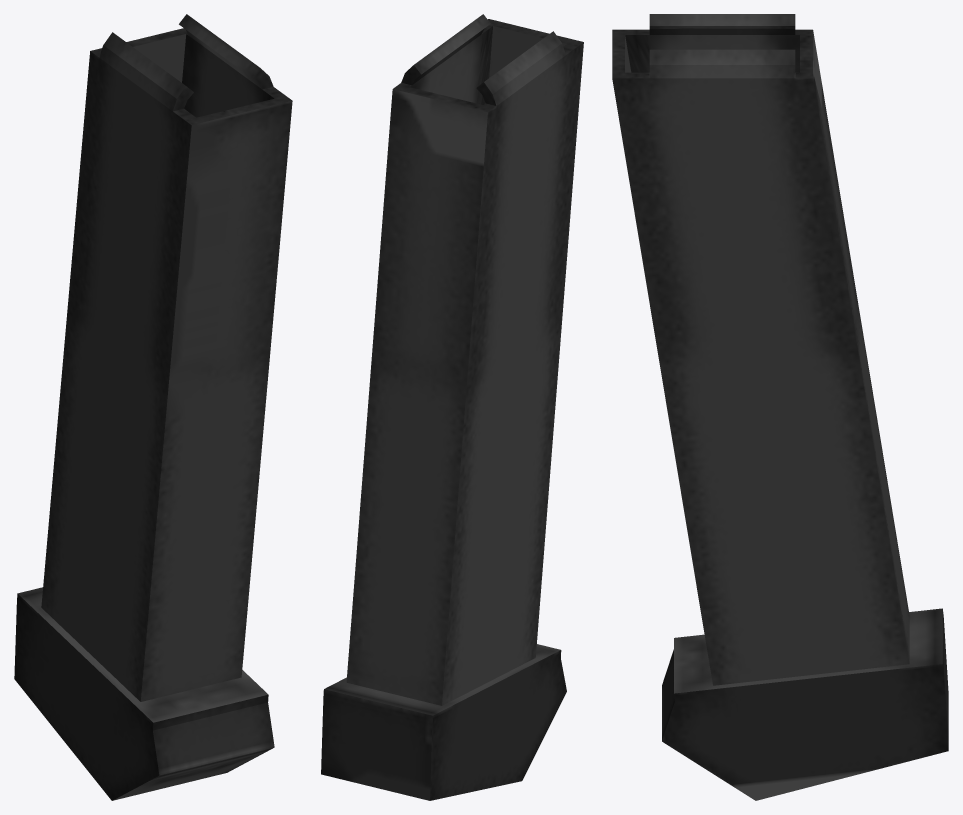
File: HeavyPistol_Mag.fbx
The picture shows the model from 3 angles, left to right: view 1: azimuth 30°, elevation 25°; view 2: azimuth 150°, elevation 25°; view 3: azimuth 270°, elevation 25°; orthographic projection. The views are drawn at different scales.
Parts seen in each view (by area): view 1: MagazineMesh; view 2: MagazineMesh; view 3: MagazineMesh.
Boxes of the visible parts, <box> form: MagazineMesh: <box>14,14,292,800</box>; MagazineMesh: <box>321,14,583,800</box>; MagazineMesh: <box>612,14,948,800</box>.
Bounding box in the file's own units: 0.0278 × 0.0712 × 0.1729.
